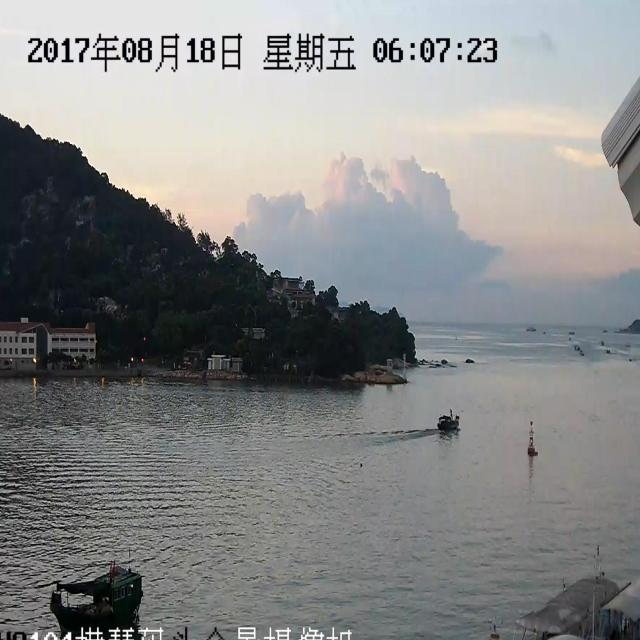buoy: (529, 412, 558, 458)
houseboat: (48, 556, 163, 640), (422, 402, 465, 442)
